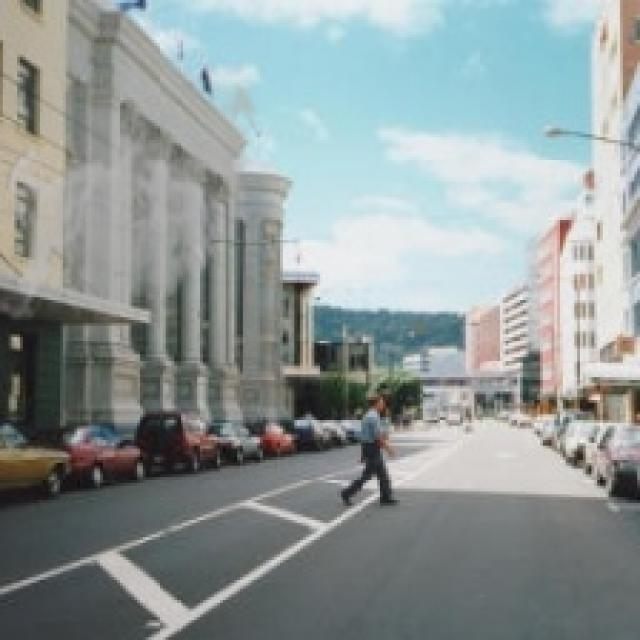Smoke: (0, 49, 266, 328)
